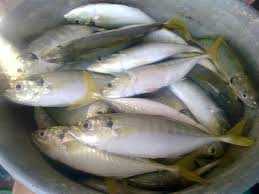Ikan Selar: (72, 116, 248, 155), (40, 24, 181, 60), (7, 71, 114, 109), (22, 123, 107, 169), (101, 68, 197, 98)
